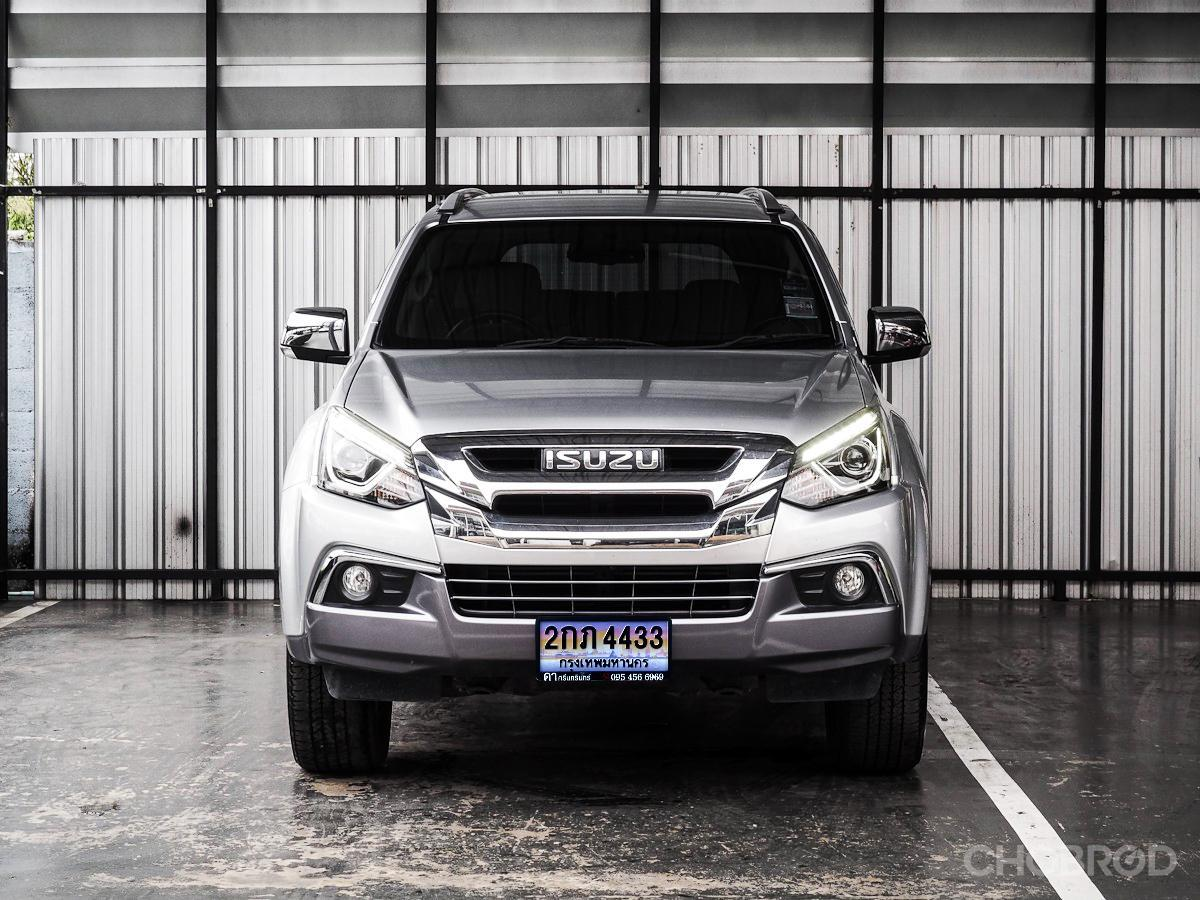license-plate: (529, 606, 680, 694)
